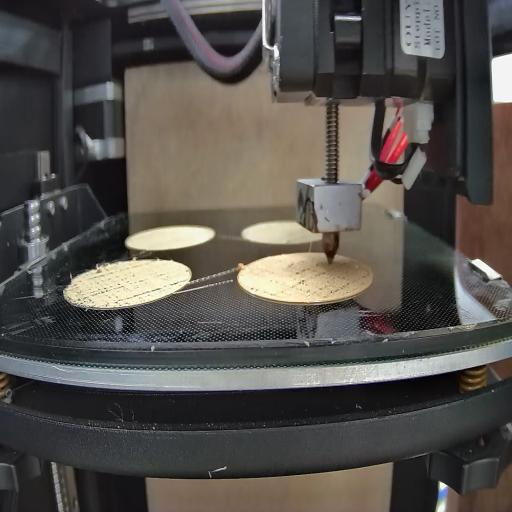under_extrusion: (251, 261, 368, 296), (70, 269, 164, 308), (169, 276, 187, 290)
